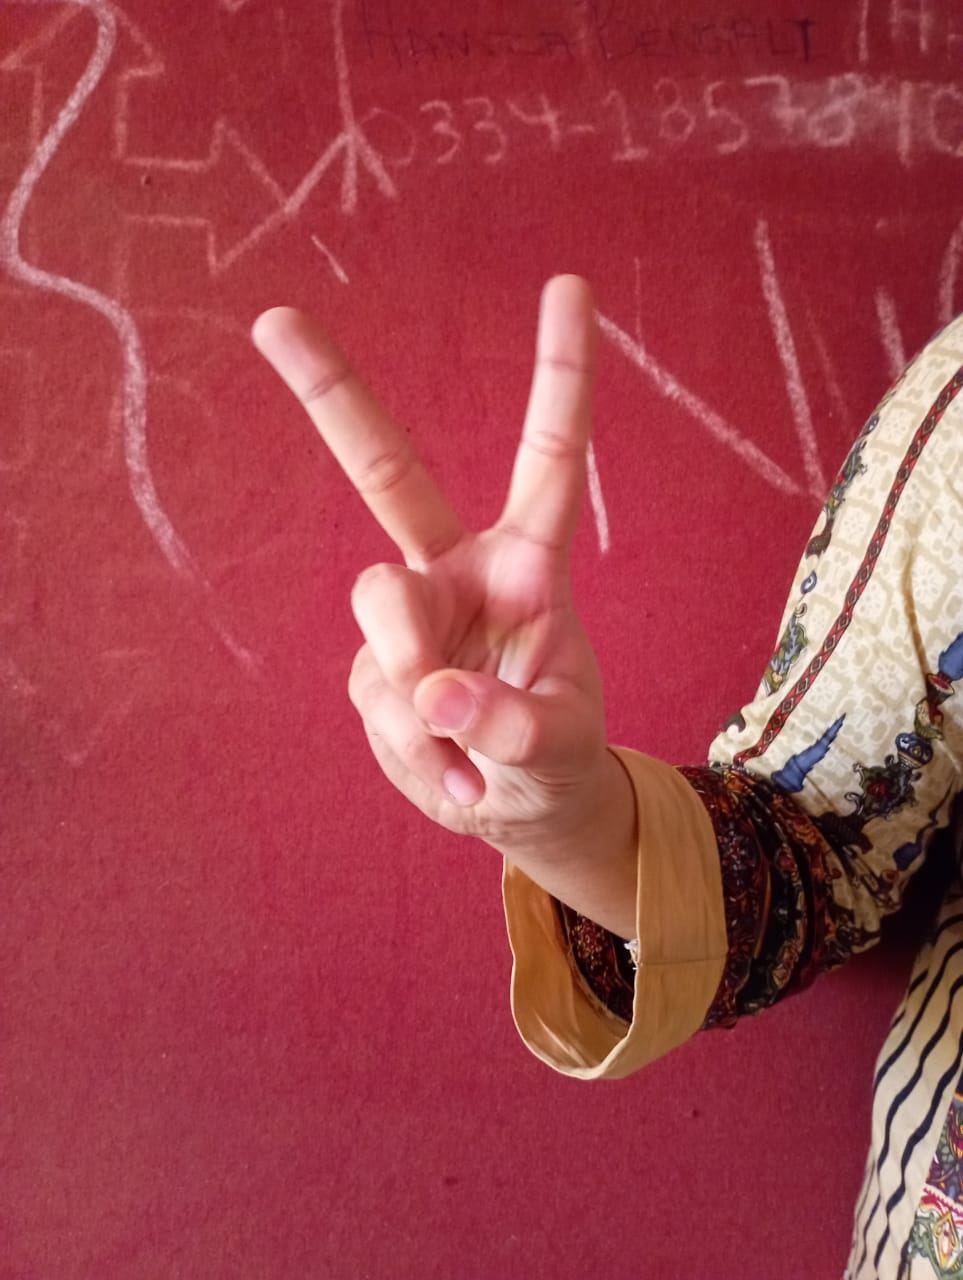Peace: (240, 265, 613, 853)
